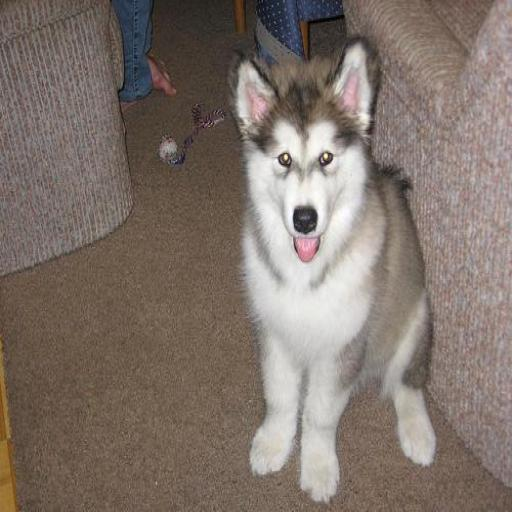dog_face: (229, 51, 376, 266)
